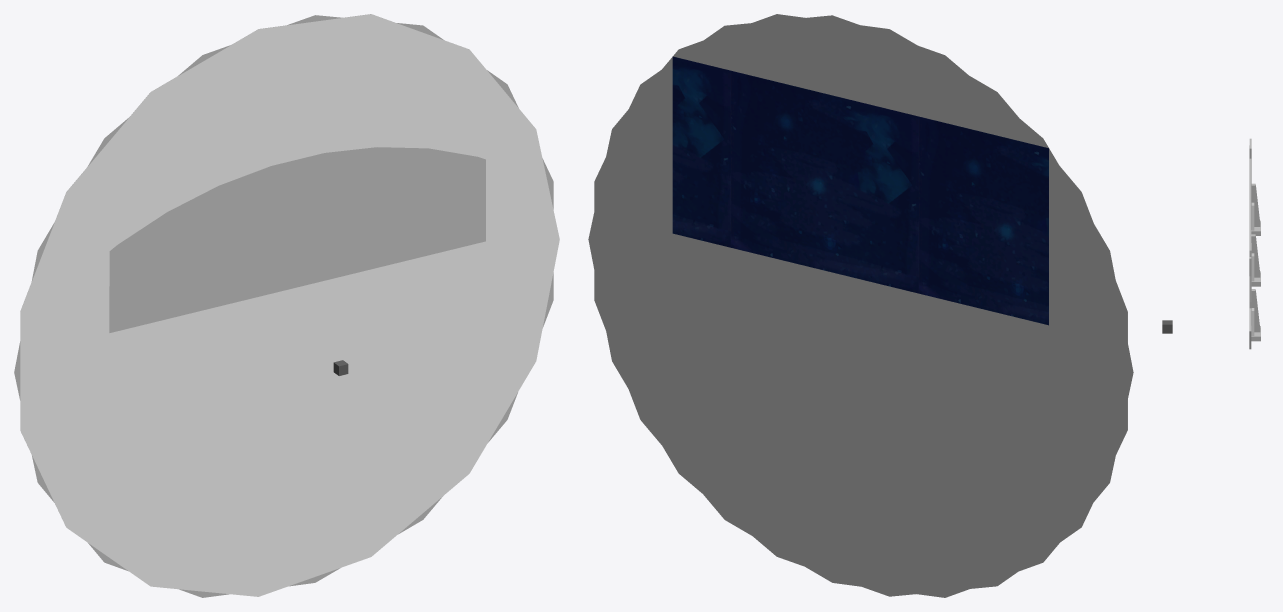
The model's file is stg_07_4_bake.dae.
3 views of the same model, side by side, from view 1: azimuth 30°, elevation 25°; view 2: azimuth 150°, elevation 25°; view 3: azimuth 270°, elevation 25° (orthographic). The views are drawn at different scales.
Parts seen in each view (by area): view 1: star_03, polySurface4_q00000, star_01; view 2: star_01, space, star_02; view 3: polySurface1251_q00009, pCube24_q00021, pCube24_q00018, pCube24_q00015, polySurface1253_q00011.
Boxes of the visible parts, left/top/right/bottom form: star_03: left=20, top=14, right=559, bottom=596; polySurface4_q00000: left=109, top=147, right=485, bottom=332; star_01: left=14, top=15, right=553, bottom=597; star_01: left=594, top=15, right=1133, bottom=597; space: left=672, top=56, right=1048, bottom=325; star_02: left=588, top=14, right=1127, bottom=596; polySurface1251_q00009: left=1249, top=145, right=1251, bottom=276; pCube24_q00021: left=1251, top=234, right=1260, bottom=277; pCube24_q00018: left=1251, top=183, right=1260, bottom=226; pCube24_q00015: left=1251, top=289, right=1260, bottom=332; polySurface1253_q00011: left=1249, top=243, right=1251, bottom=325.
Bounding box in the file's own units: 58 × 57.68 × 10.5.
